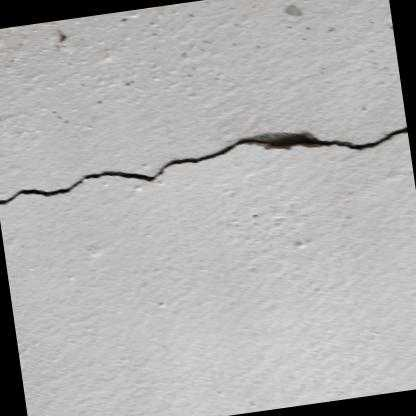crack: (0, 125, 407, 204)
